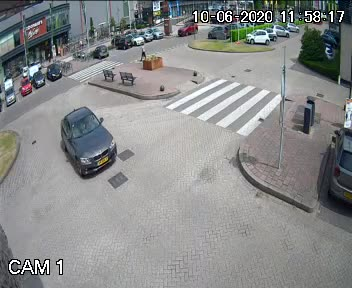car: (52, 106, 123, 177)
